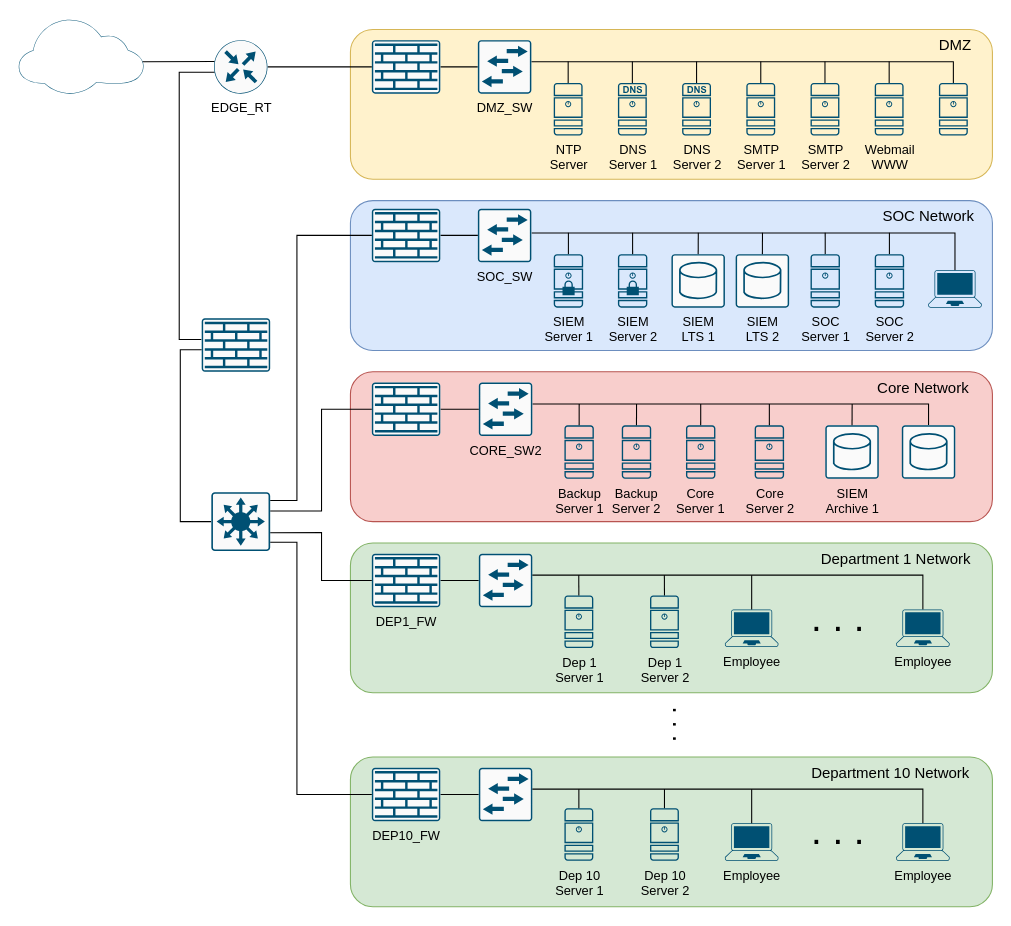
The diagram is 1011 pixels wide and 926 high, and some of its shapes have lost their labels. The shapes that lost their labels are listed below. From the top down, each one's centre as x and y in pixels, then its label:
[80,55]: Internet
[405,66]: DMZ_FW
[952,108]: GW-VPN
[405,235]: SOC_FW
[954,288]: Security Analyst
[235,344]: CORE_FW1
[405,408]: CORE_FW2
[928,451]: SIEM Archive 2
[240,521]: CORE_SW1
[505,580]: DEP1_SW
[505,794]: DEP10_SW
